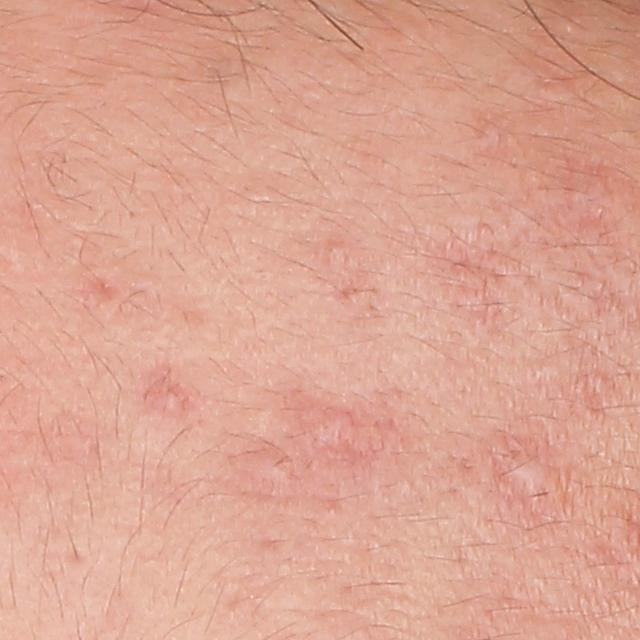comedo: (321, 237, 343, 264)
